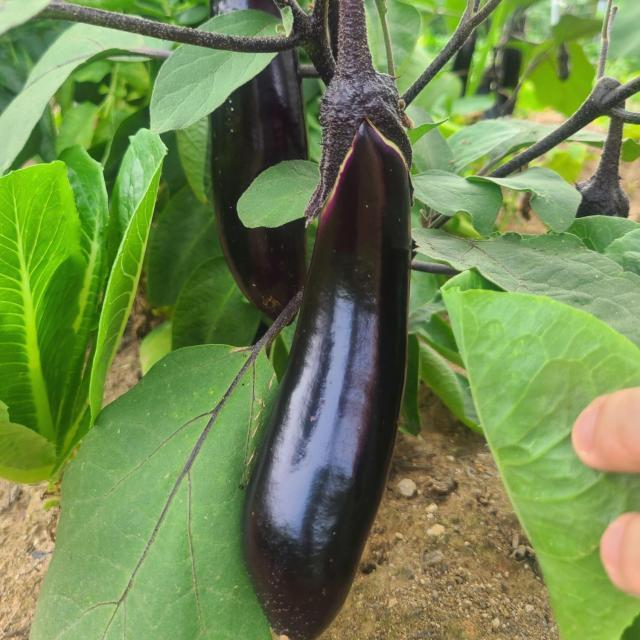eggplant: (234, 27, 452, 640)
